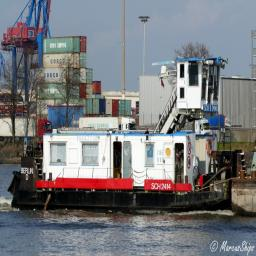tugboat: (8, 56, 237, 220)
